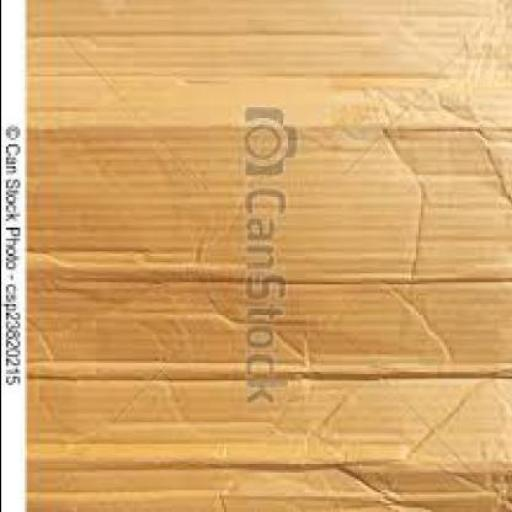cardboard: (28, 0, 511, 511)
